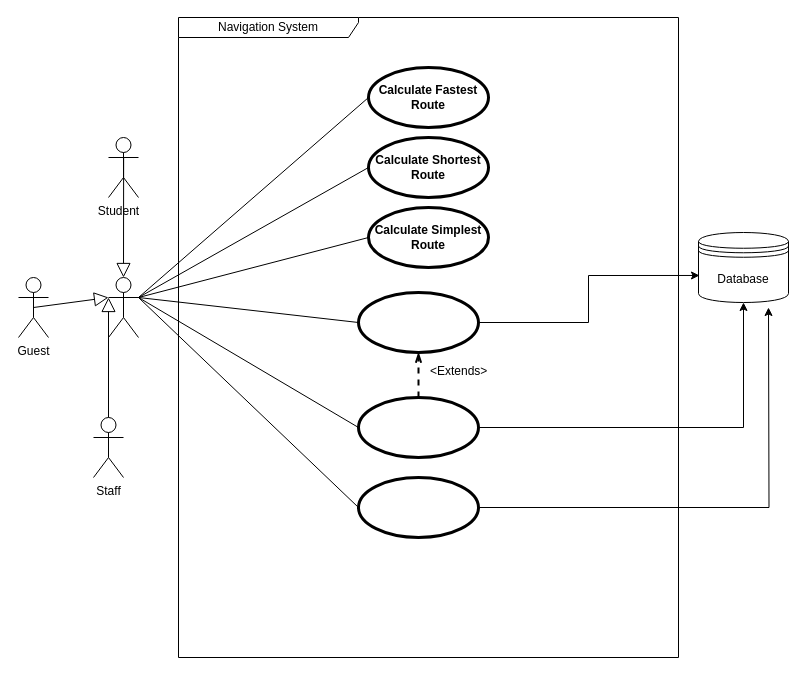
Some shapes in this 806 by 675 pixel diagram are drawn without their labels. The shapes that lost their labels are listed below. From the top down, each one's centre as x and y in pixels, then its label:
At pixel 123 307: "User".
At pixel 418 322: "SaveRoute".
At pixel 418 427: "recordRoute".
At pixel 418 507: "savePreferences".
